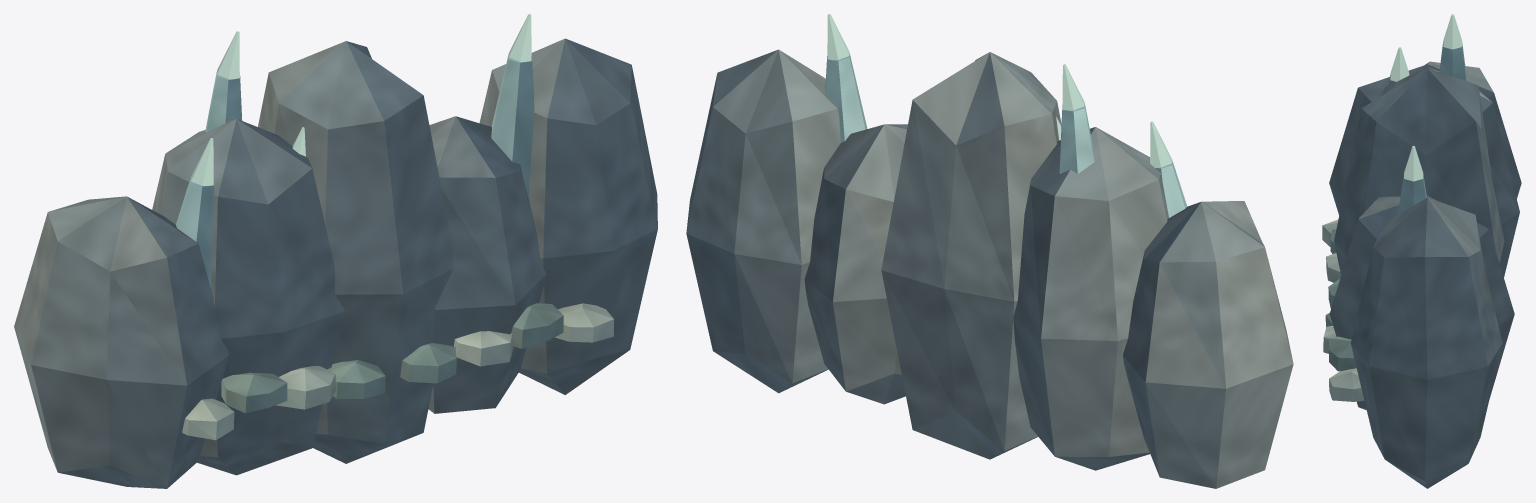
The model's file is dusk_wall_mist.glb.
The picture shows the model from 3 angles, left to right: view 1: azimuth 30°, elevation 25°; view 2: azimuth 150°, elevation 25°; view 3: azimuth 270°, elevation 25°; orthographic projection. The views are drawn at different scales.
Visible parts, largest first — view 1: Dämmergänge · Wand mit mist; view 2: Dämmergänge · Wand mit mist; view 3: Dämmergänge · Wand mit mist.
Part boxes in pixels (x1=…): Dämmergänge · Wand mit mist: x1=14, y1=14, x2=657, y2=488; Dämmergänge · Wand mit mist: x1=686, y1=14, x2=1293, y2=488; Dämmergänge · Wand mit mist: x1=1322, y1=14, x2=1521, y2=488.
Bounding box in the file's own units: 2.57 × 1.74 × 0.8679.
Materials: 2 (1 with a texture image).
